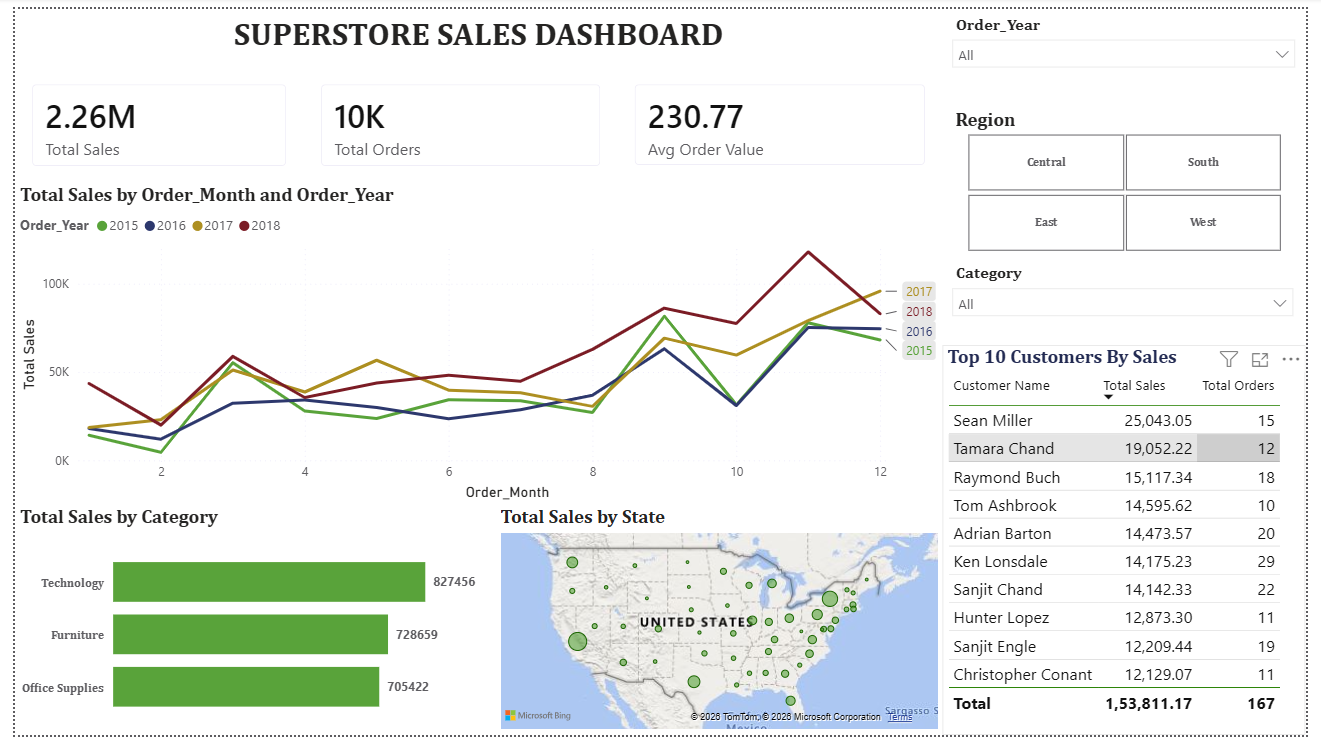

This screenshot's page, from the dashboard's own definition file:
{"tool":"powerbi","page":{"name":"DashBoard","canvas":[1280,720],"ordinal":0},"visuals":[{"type":"cardVisual","fields":{"Data":["Superstore_Sales_Dataset.Total Sales"]},"box":[0,57.5,286.2,115],"z":0},{"type":"cardVisual","fields":{"Data":["Superstore_Sales_Dataset.Total Orders"]},"box":[286.2,57.5,311.2,115],"z":1},{"type":"cardVisual","fields":{"Data":["Superstore_Sales_Dataset.Avg Order Value"]},"box":[597.8,57.8,322.2,114.4],"z":2},{"type":"lineChart","fields":{"Y":["Superstore_Sales_Dataset.Total Sales"],"Category":["Superstore_Sales_Dataset.Order_Month"],"Series":["Superstore_Sales_Dataset.Order_Year"]},"box":[0,172.5,918.8,320],"z":3},{"type":"clusteredBarChart","fields":{"Category":["Superstore_Sales_Dataset.Category"],"Y":["Superstore_Sales_Dataset.Total Sales"]},"box":[0,492.5,476.2,227.5],"z":4},{"type":"map","fields":{"Category":["Superstore_Sales_Dataset.State"],"Size":["Superstore_Sales_Dataset.Total Sales"]},"box":[476.2,492.5,443.8,227.5],"z":5},{"type":"tableEx","title":"Top 10 Customers By Sales","fields":{"Values":["Superstore_Sales_Dataset.Customer Name","Superstore_Sales_Dataset.Total Sales","Superstore_Sales_Dataset.Total Orders"]},"box":[920,333.3,360,386.7],"z":6},{"type":"slicer","fields":{"Values":["Superstore_Sales_Dataset.Order_Year"]},"box":[920,0,360,93.3],"z":7},{"type":"slicer","fields":{"Values":["Superstore_Sales_Dataset.Region"]},"box":[920,93.3,360,153.3],"z":8},{"type":"slicer","fields":{"Values":["Superstore_Sales_Dataset.Category"]},"box":[920,246.7,357.8,85.6],"z":9},{"type":"textbox","box":[0,0,920,57.8],"z":10}]}

Visuals, with their boxes in screenshot pixels (x1, y1, x2, y2), scaled from the page's 1280x720 canvas onto the 1321x744 screenshot:
cardVisual - Superstore_Sales_Dataset.Total Sales: bbox=(0, 59, 295, 178)
cardVisual - Superstore_Sales_Dataset.Total Orders: bbox=(295, 59, 617, 178)
cardVisual - Superstore_Sales_Dataset.Avg Order Value: bbox=(617, 60, 949, 178)
lineChart - Superstore_Sales_Dataset.Total Sales x Superstore_Sales_Dataset.Order_Month: bbox=(0, 178, 948, 509)
clusteredBarChart - Superstore_Sales_Dataset.Category x Superstore_Sales_Dataset.Total Sales: bbox=(0, 509, 491, 743)
map - Superstore_Sales_Dataset.State x Superstore_Sales_Dataset.Total Sales: bbox=(491, 509, 949, 743)
"Top 10 Customers By Sales" tableEx: bbox=(949, 344, 1320, 743)
slicer - Superstore_Sales_Dataset.Order_Year: bbox=(949, 0, 1320, 96)
slicer - Superstore_Sales_Dataset.Region: bbox=(949, 96, 1320, 255)
slicer - Superstore_Sales_Dataset.Category: bbox=(949, 255, 1319, 343)
textbox: bbox=(0, 0, 949, 60)
